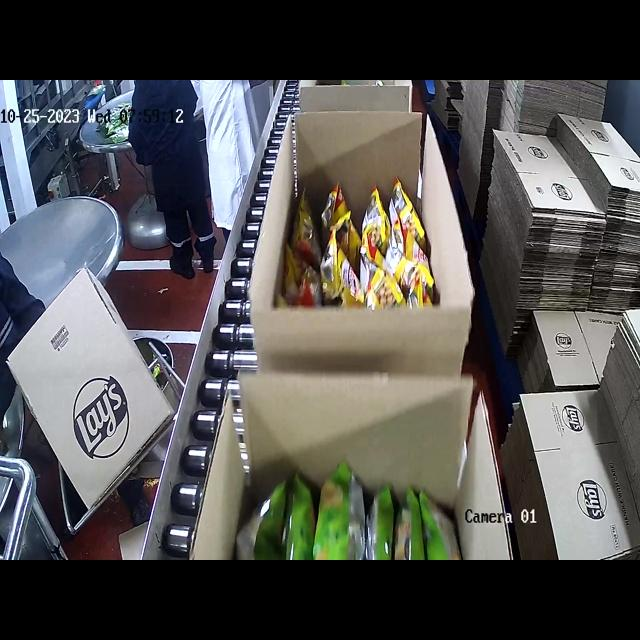salted: (285, 186, 428, 312)
yogurt: (232, 471, 455, 560)
